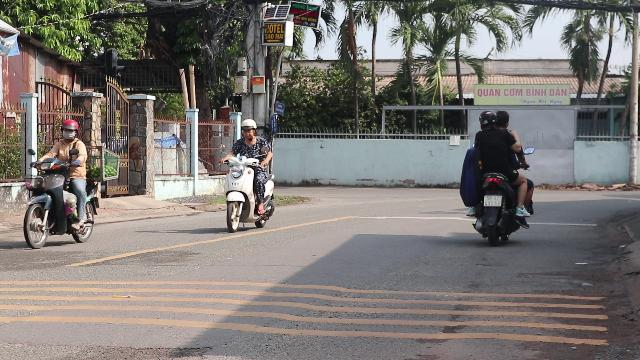helmet: (60, 118, 78, 140), (239, 118, 257, 140), (478, 109, 496, 128)
licenseplate: (484, 195, 502, 206)
motorcyclist: (20, 117, 100, 249), (458, 108, 534, 244), (218, 118, 278, 232)
nohelmet: (493, 110, 509, 128)
